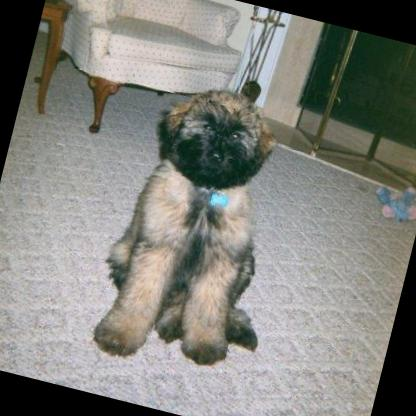Bouvier_des_Flandres: (83, 69, 316, 389)
